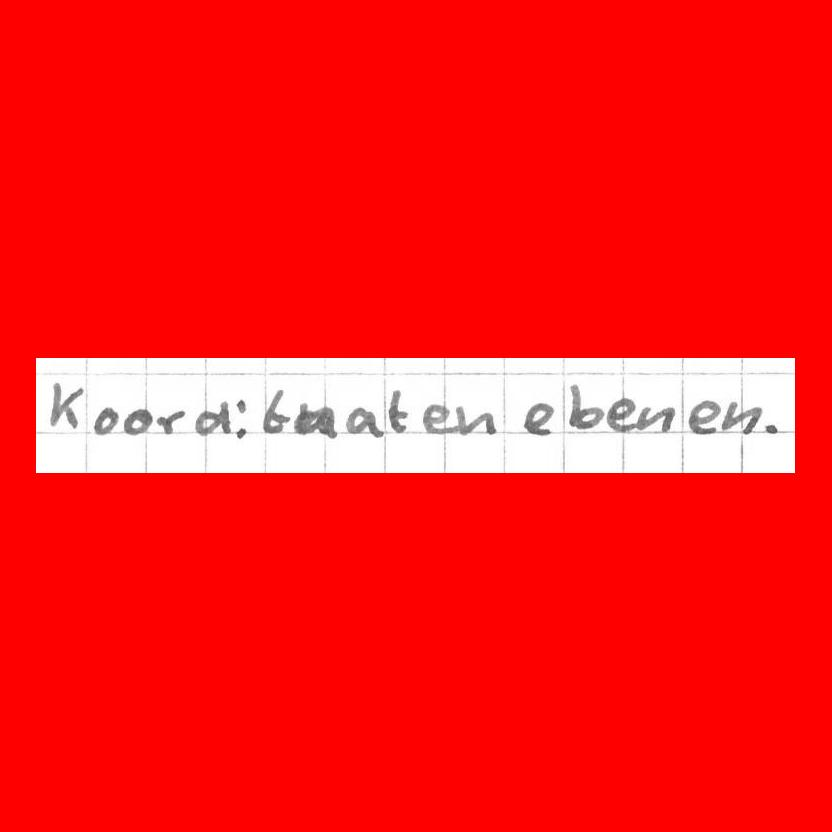Char: (44, 376, 85, 433), (567, 380, 606, 433), (292, 402, 339, 440), (191, 397, 232, 438), (721, 398, 762, 437), (260, 386, 291, 435), (455, 401, 497, 437), (344, 404, 386, 439), (688, 396, 720, 436), (635, 403, 675, 434), (522, 400, 554, 438), (607, 394, 637, 434), (386, 388, 411, 433), (89, 404, 121, 439), (420, 401, 453, 434), (153, 407, 189, 436), (123, 407, 154, 436), (233, 397, 249, 441), (760, 419, 780, 437)
